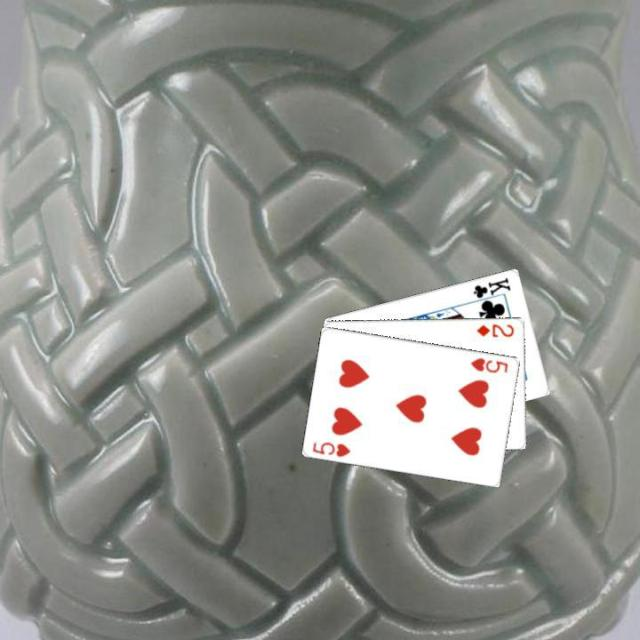2D: (473, 319, 515, 339)
5H: (309, 437, 353, 459), (467, 354, 510, 374)
KC: (468, 274, 512, 305)
